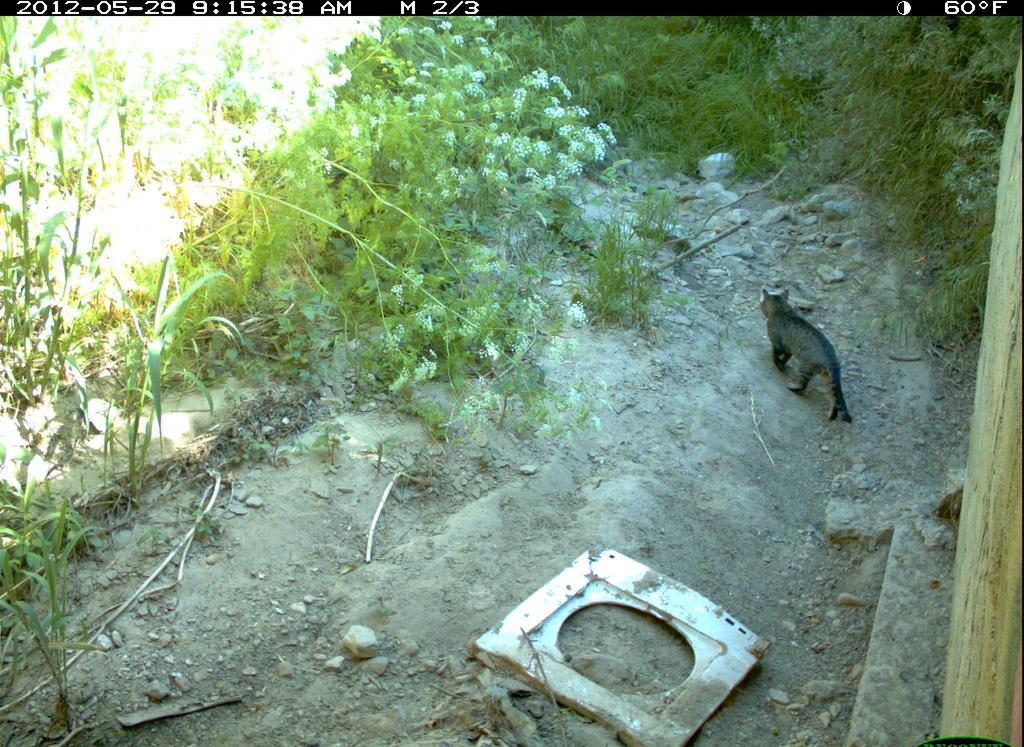cat: (751, 278, 862, 434)
